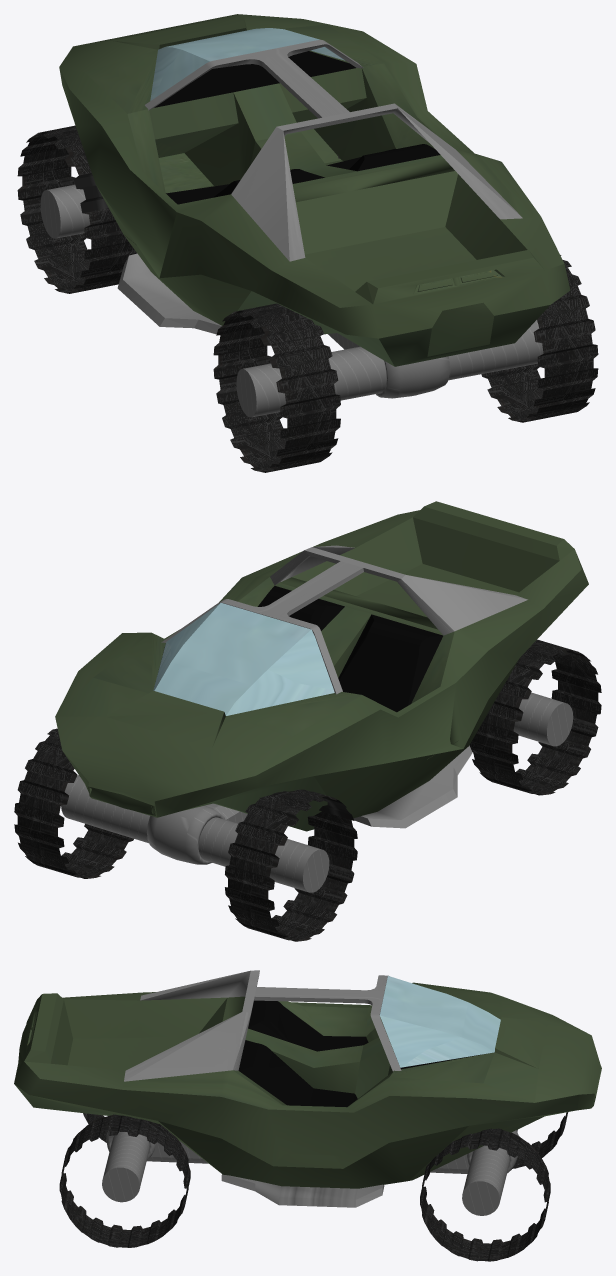
The model's file is Cochecitobrm.fbx.
3 views of the same model, one above another, from view 1: azimuth 30°, elevation 25°; view 2: azimuth 150°, elevation 25°; view 3: azimuth 270°, elevation 25° (orthographic). The views are drawn at different scales.
Visible parts, largest first — view 1: troca, llanta, llanta2, llanta1, agarre1y2, vidrio, Torus, agarre3y4; view 2: troca, vidrio, llanta2, llanta, agarre3y4, llanta3, agarre1y2; view 3: troca, vidrio, llanta1, llanta3, agarre3y4, agarre1y2, sosten, llanta2.
Boxes of the visible parts, x1,y1,x2,y2 form: troca: [59, 14, 570, 366]; llanta: [213, 303, 340, 472]; llanta2: [17, 125, 136, 293]; llanta1: [481, 255, 598, 422]; agarre1y2: [236, 320, 543, 417]; vidrio: [150, 28, 344, 100]; Torus: [376, 356, 449, 398]; agarre3y4: [40, 184, 90, 238]; troca: [55, 501, 588, 831]; vidrio: [153, 603, 334, 715]; llanta2: [225, 789, 357, 941]; llanta: [469, 639, 601, 795]; agarre3y4: [61, 775, 329, 892]; llanta3: [14, 728, 133, 878]; agarre1y2: [513, 692, 573, 746]; troca: [14, 970, 601, 1207]; vidrio: [379, 976, 500, 1067]; llanta1: [59, 1114, 190, 1247]; llanta3: [420, 1128, 550, 1261]; agarre3y4: [462, 1129, 518, 1215]; agarre1y2: [102, 1131, 149, 1202]; sosten: [147, 1141, 469, 1173]; llanta2: [512, 1112, 568, 1168].
Size of the model in its own units: 858 by 587 by 1529.
Materials: 4 (4 with a texture image).
